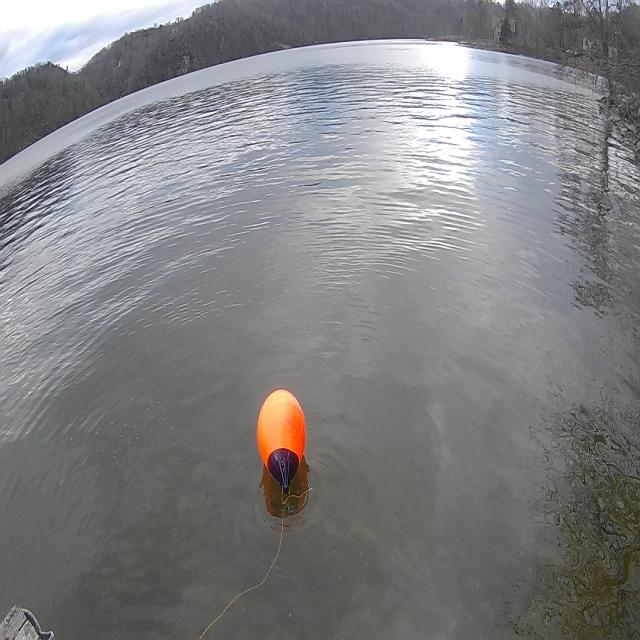Buoy: (255, 384, 310, 476)
